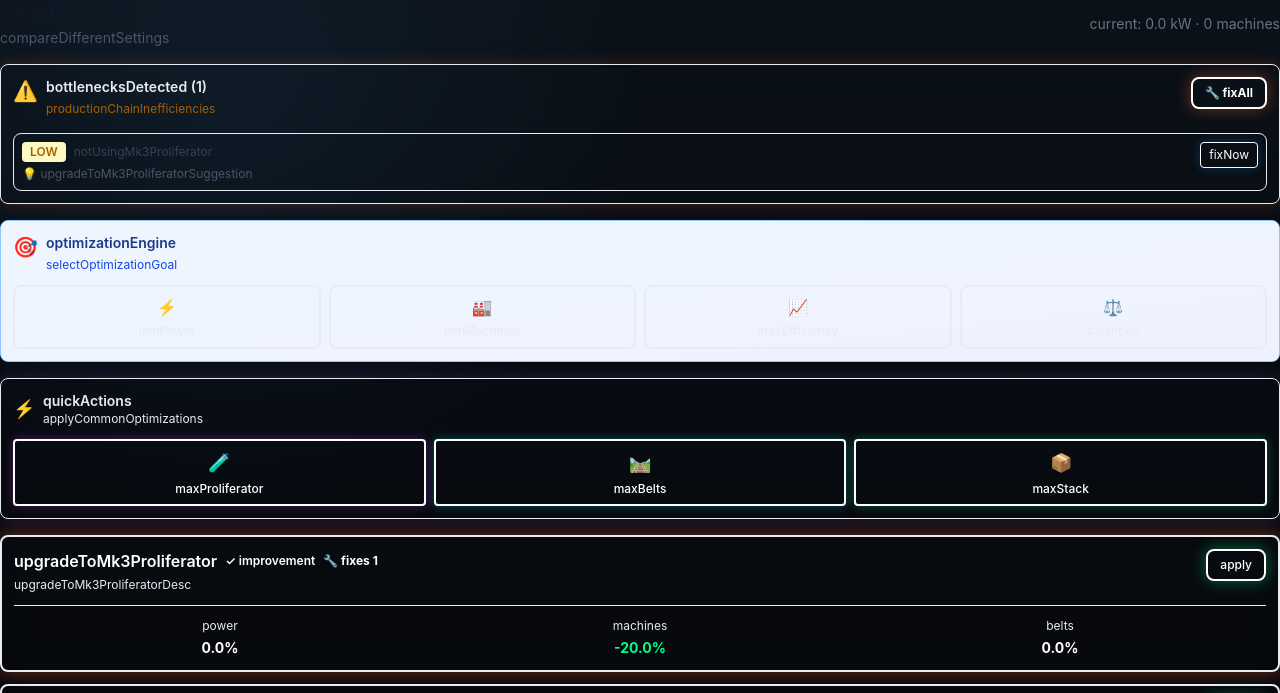
it: WhatIfSimulator › マシン数最適化が動作する
The image size is (1280, 693).
Click the button "🏭 minMachines" at (482, 317), box [328,285,636,349]
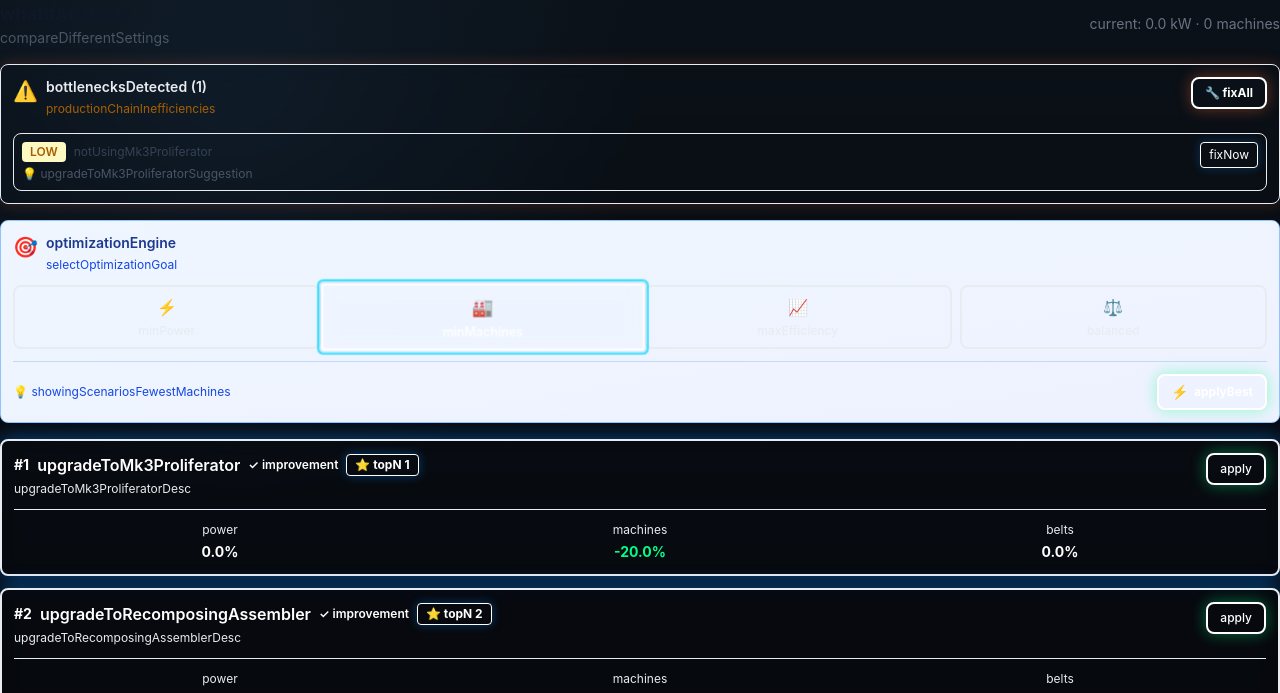
Result: the text "💡 showingScenariosFewestMachines" is shown at [13,384,230,399]
